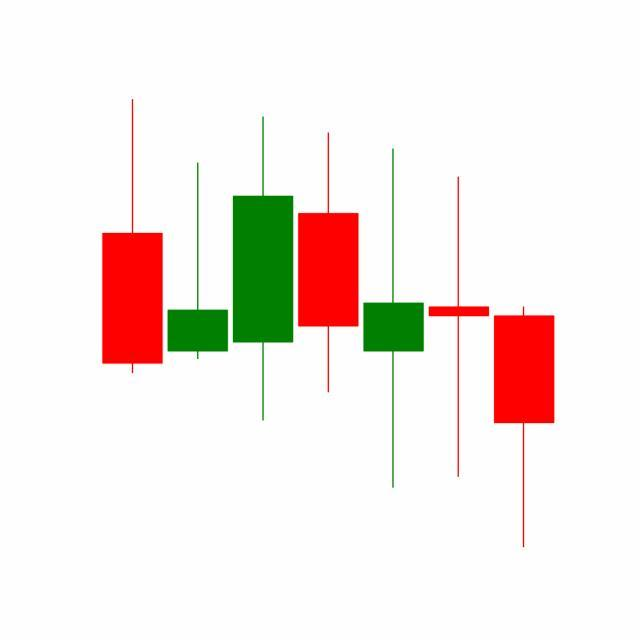Hikkake Pattern: (229, 113, 555, 549)
